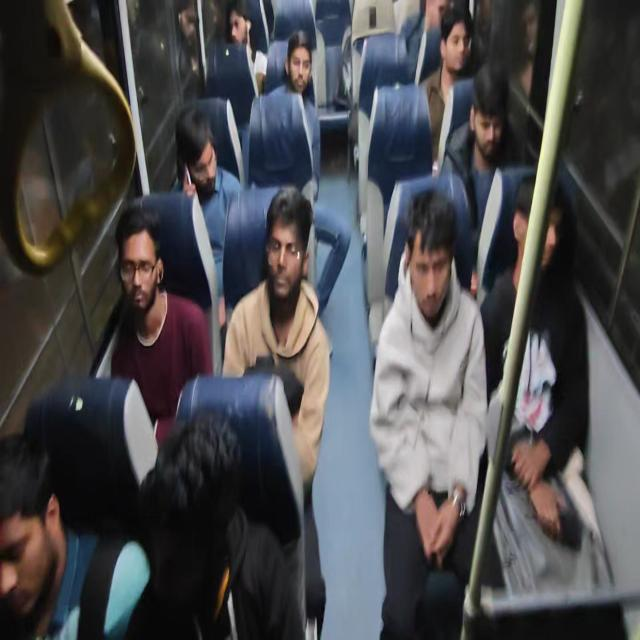person: (3, 1, 616, 638), (368, 188, 488, 638), (221, 185, 331, 636), (480, 175, 592, 595), (123, 408, 306, 638), (0, 429, 151, 639), (107, 205, 212, 447), (438, 61, 524, 293), (171, 103, 241, 299), (418, 6, 474, 176), (266, 30, 322, 198), (487, 0, 540, 162), (226, 3, 268, 96), (176, 0, 203, 100)
